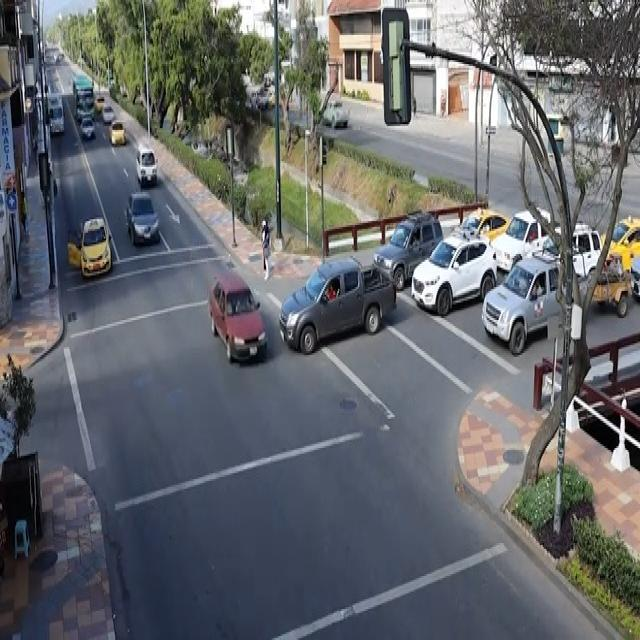BUS: (73, 77, 94, 122)
CMT: (278, 261, 402, 352)
